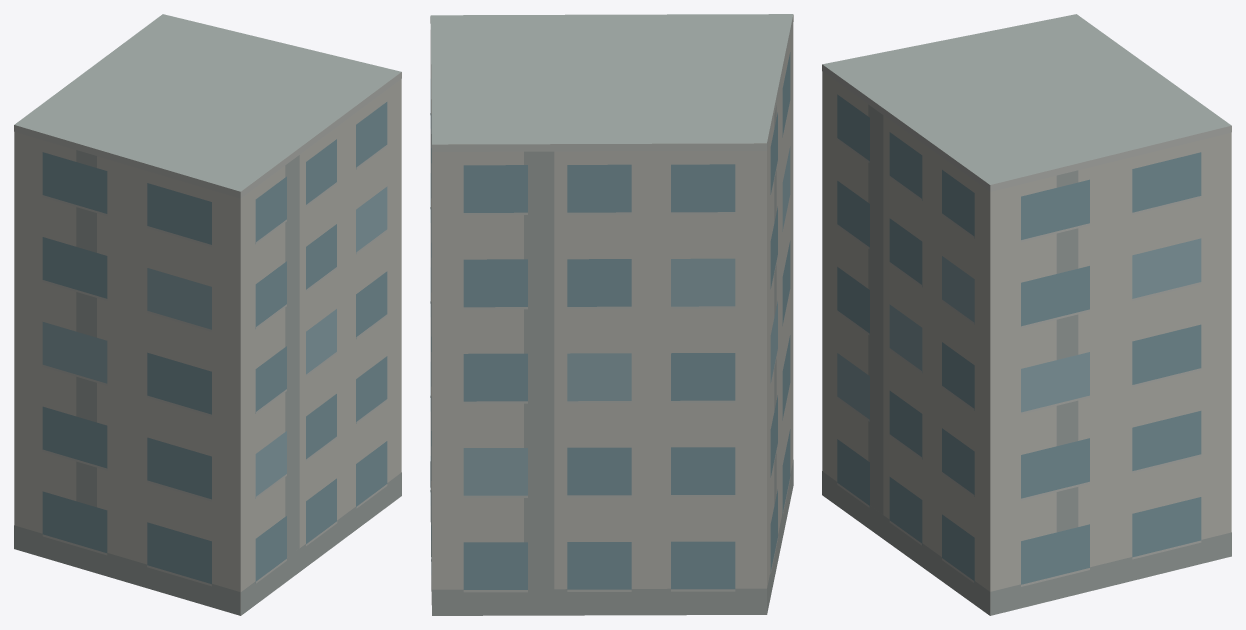
File: survey-upis-32820508.glb
3 views of the same model, side by side, from view 1: azimuth 30°, elevation 25°; view 2: azimuth 150°, elevation 25°; view 3: azimuth 270°, elevation 25° (orthographic). The views are drawn at different scales.
Parts seen in each view (by area): view 1: survey-upis-32820508.tmp; view 2: survey-upis-32820508.tmp; view 3: survey-upis-32820508.tmp.
Boxes of the visible parts, left/top/right/bottom form: survey-upis-32820508.tmp: left=14, top=14, right=401, bottom=615; survey-upis-32820508.tmp: left=430, top=14, right=793, bottom=615; survey-upis-32820508.tmp: left=822, top=14, right=1231, bottom=615.
Bounding box in the file's own units: 13.05 × 15.32 × 13.21.
